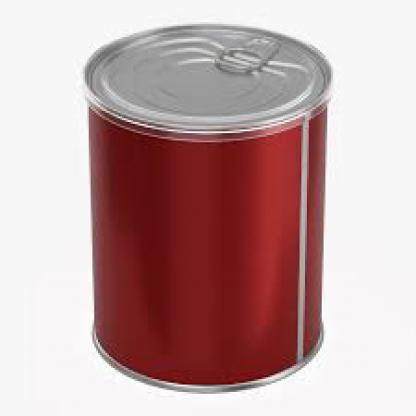METAL: (79, 22, 333, 392)
